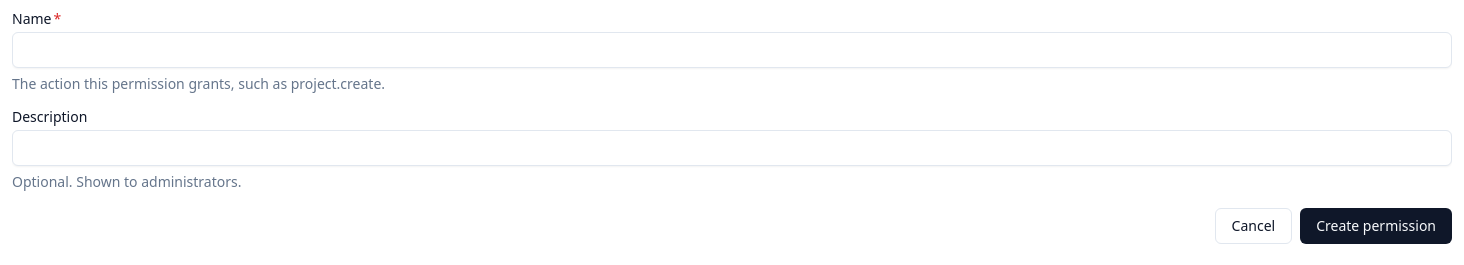
Scenario: PermissionForm — validation (FR-UI9) › requires a name
Click the button "Create permission".
click(1376, 226)  # box [1300,208,1452,244]
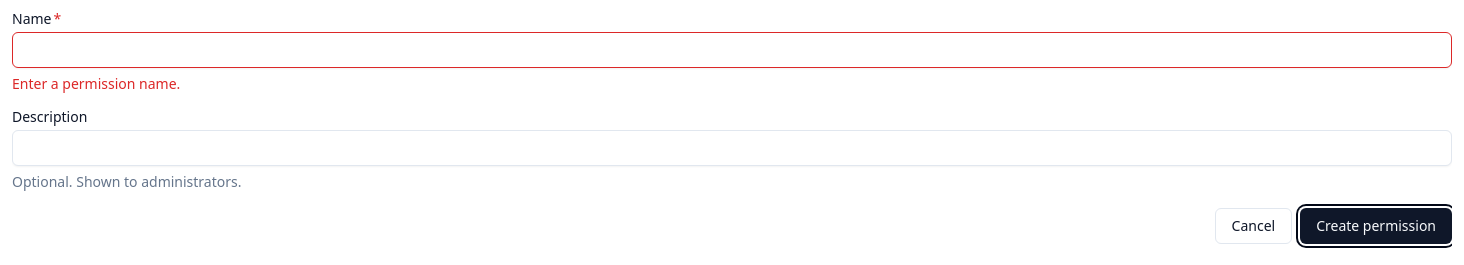
Now the message reads "Enter a permission name.", box [12,74,180,93]
